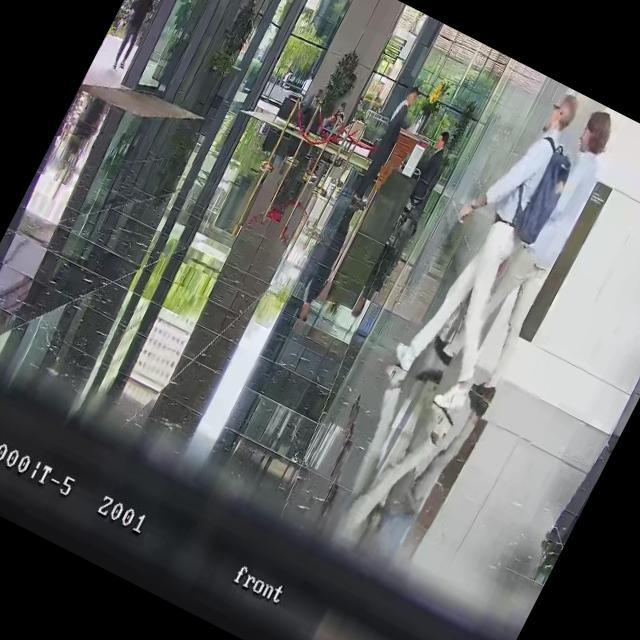person: (374, 71, 613, 421), (417, 92, 632, 417), (437, 102, 632, 418), (534, 339, 640, 566), (355, 125, 461, 298), (350, 82, 429, 206), (102, 0, 164, 73), (291, 85, 331, 137), (324, 99, 351, 133)
